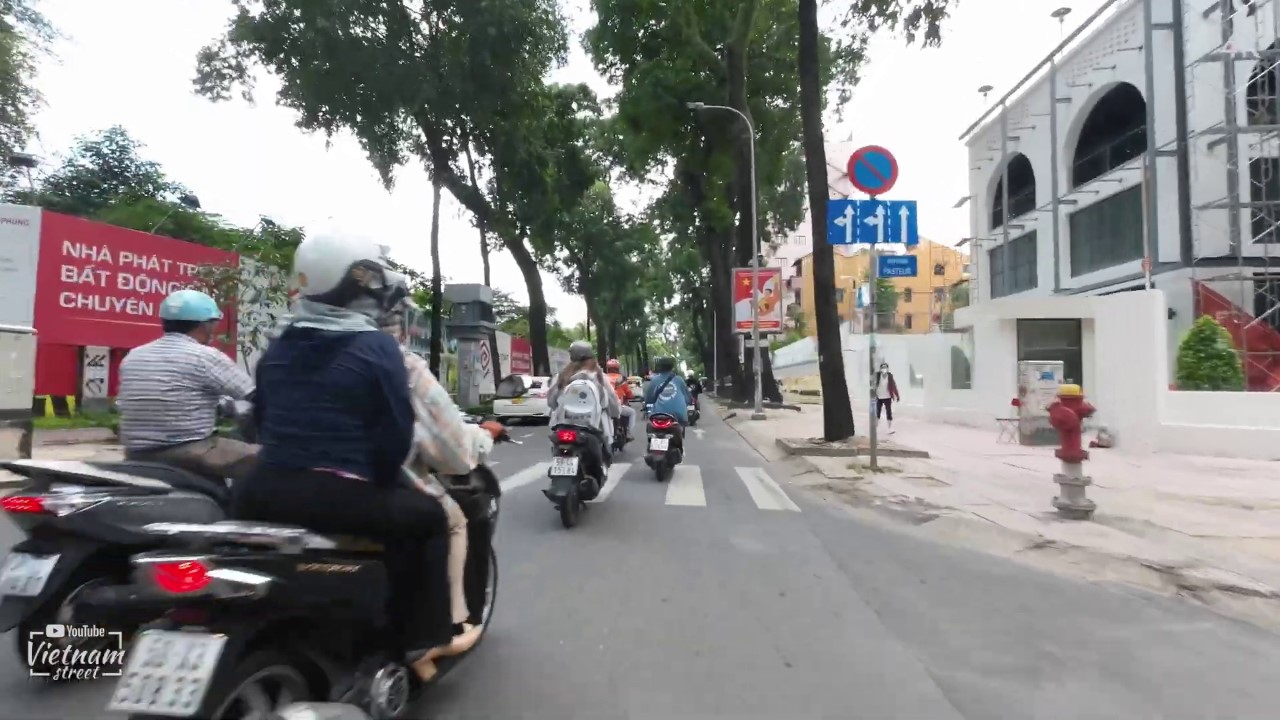cam_do_xe: (847, 145, 901, 196)
